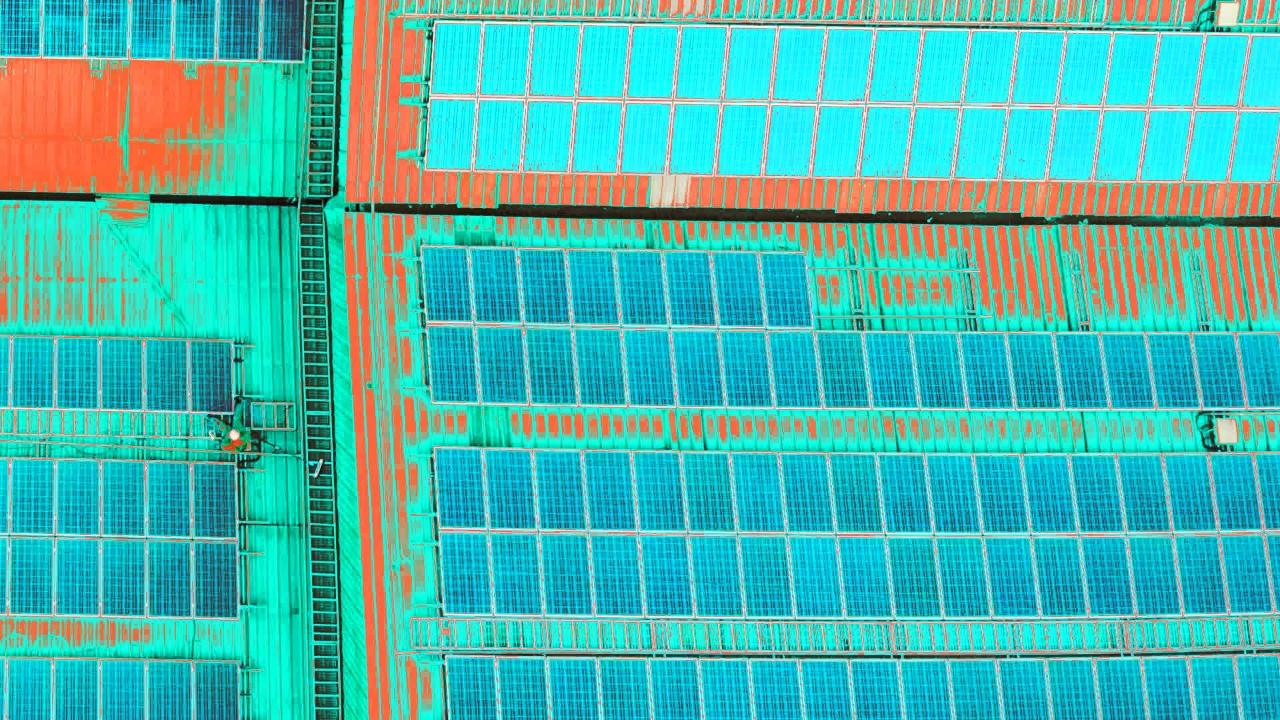dirty: (427, 447, 1280, 612), (435, 21, 1280, 187), (420, 246, 818, 410), (446, 657, 1276, 713), (814, 328, 1280, 414), (6, 460, 237, 624), (5, 336, 238, 415), (1, 659, 234, 720)
semi: (6, 2, 305, 59)
